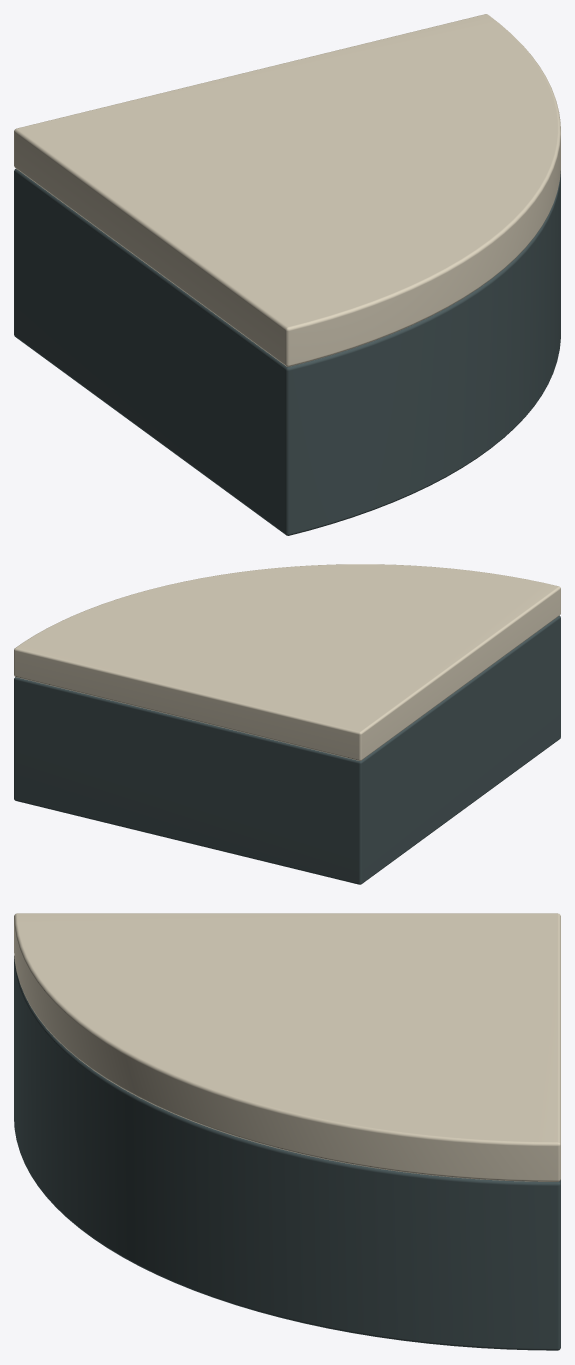
Rendered from foundation-corner-r050.glb.
3 renders of one model, top to bottom at view 1: azimuth 30°, elevation 25°; view 2: azimuth 150°, elevation 25°; view 3: azimuth 270°, elevation 25°, orthographic. The views are drawn at different scales.
Visible parts, largest first — view 1: foundation-corner-r050 / 01 • warm porcelain paint, foundation-corner-r050 / 06 • dark anodized frame; view 2: foundation-corner-r050 / 01 • warm porcelain paint, foundation-corner-r050 / 06 • dark anodized frame; view 3: foundation-corner-r050 / 01 • warm porcelain paint, foundation-corner-r050 / 06 • dark anodized frame.
Part boxes in pixels (box(x1,y1,x2,y2)): foundation-corner-r050 / 01 • warm porcelain paint: box(14, 14, 560, 366); foundation-corner-r050 / 06 • dark anodized frame: box(14, 169, 560, 535); foundation-corner-r050 / 01 • warm porcelain paint: box(14, 564, 560, 760); foundation-corner-r050 / 06 • dark anodized frame: box(14, 616, 560, 884); foundation-corner-r050 / 01 • warm porcelain paint: box(14, 913, 560, 1181); foundation-corner-r050 / 06 • dark anodized frame: box(14, 956, 560, 1350).
Bounding box in the file's own units: 0.4999 × 0.21 × 0.4999.
